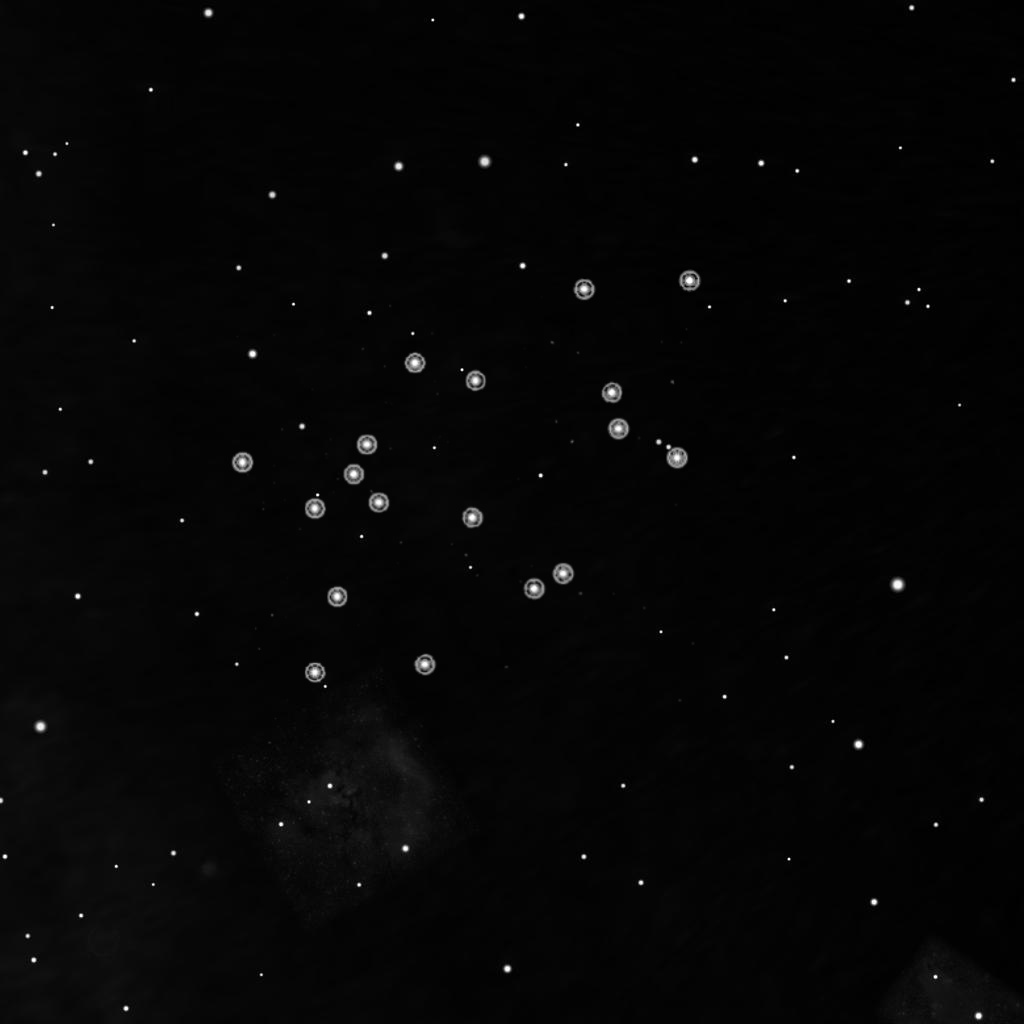canis_major: (296, 344, 495, 527)
